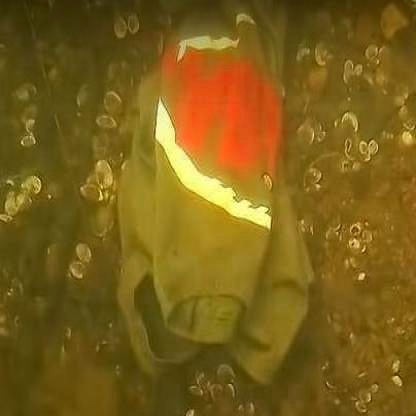misc: (128, 11, 298, 376)
